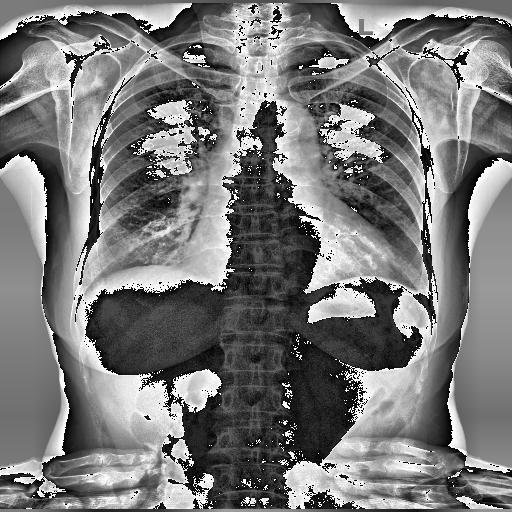0- Aortic enlargement: (255, 95, 318, 146), (260, 102, 320, 154), (264, 102, 318, 152)
3- Cardiomegaly: (185, 224, 391, 280), (184, 244, 396, 278), (183, 240, 395, 273)
